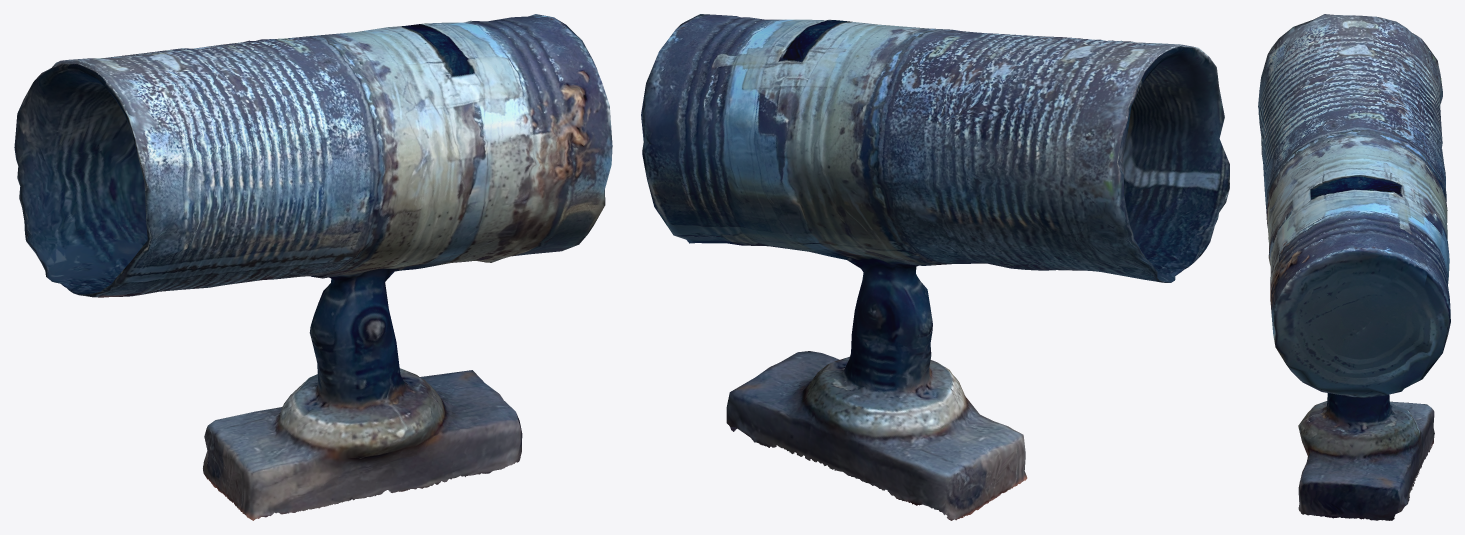
Rendered from Telescope.glb.
The picture shows the model from 3 angles, left to right: view 1: azimuth 30°, elevation 25°; view 2: azimuth 150°, elevation 25°; view 3: azimuth 270°, elevation 25°; orthographic projection. The views are drawn at different scales.
Visible parts, largest first — view 1: Telescope; view 2: Telescope; view 3: Telescope.
Part boxes in pixels (bbox=[...]): Telescope: bbox=[14, 14, 612, 520]; Telescope: bbox=[641, 14, 1229, 520]; Telescope: bbox=[1258, 14, 1450, 520].
Bounding box in the file's own units: 112 × 100 × 47.61.
1 material, 1 textured.
